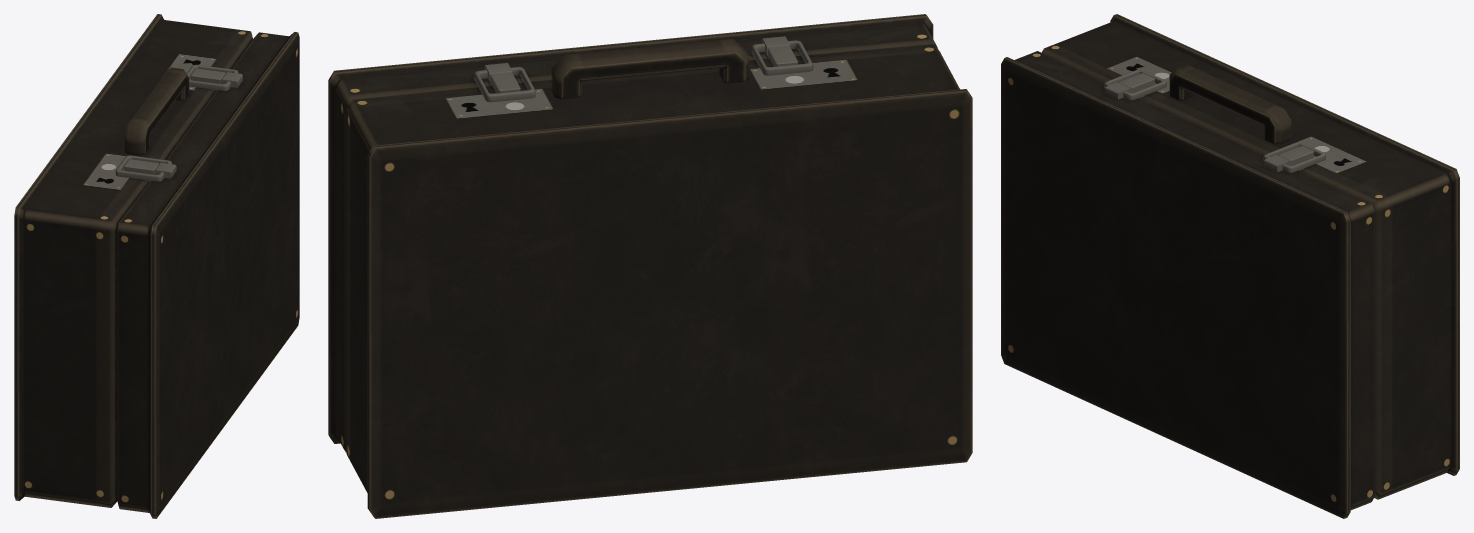
File: Suitcase_10.glb
3 views of the same model, side by side, from view 1: azimuth 30°, elevation 25°; view 2: azimuth 150°, elevation 25°; view 3: azimuth 270°, elevation 25° (orthographic). The views are drawn at different scales.
Visible parts, largest first — view 1: Object_11; view 2: Object_11; view 3: Object_11.
Part boxes in pixels (x1,y1,x2,y2): Object_11: [14, 14, 299, 518]; Object_11: [328, 14, 972, 518]; Object_11: [1001, 14, 1459, 518].
Bounding box in the file's own units: 6.95 × 5.3 × 6.67.
1 material, 1 textured.
